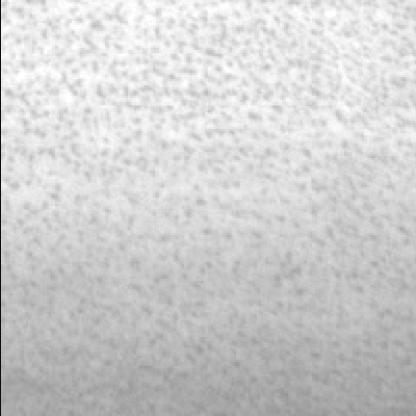pitted_surface: (12, 0, 412, 404)
